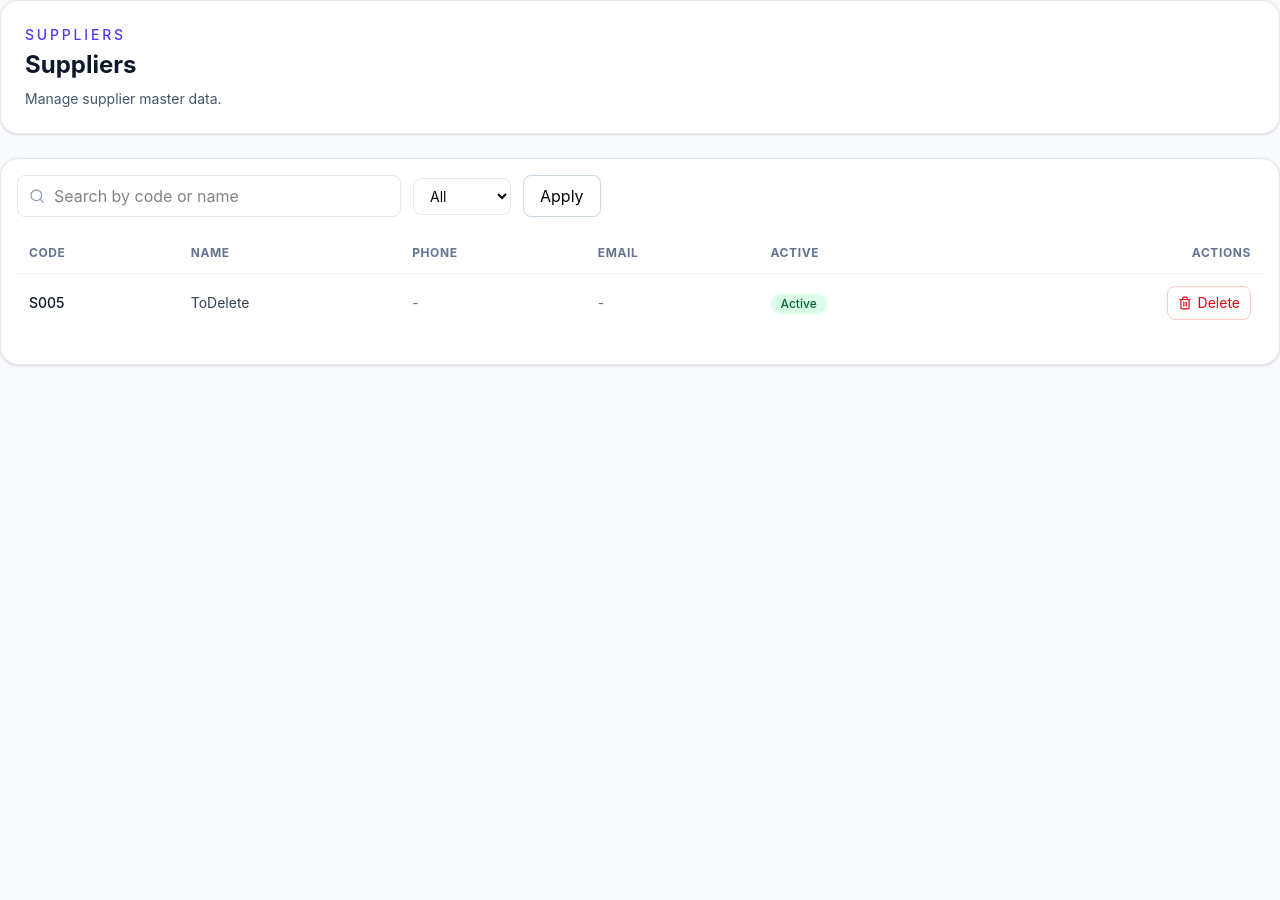
Scenario: SuppliersPage › allows deleting (soft-delete) a supplier
Expected: the text "ToDelete" is shown, [179,274,400,332]
Click the button "Delete".
click(1209, 303)  # box [1167,286,1251,320]
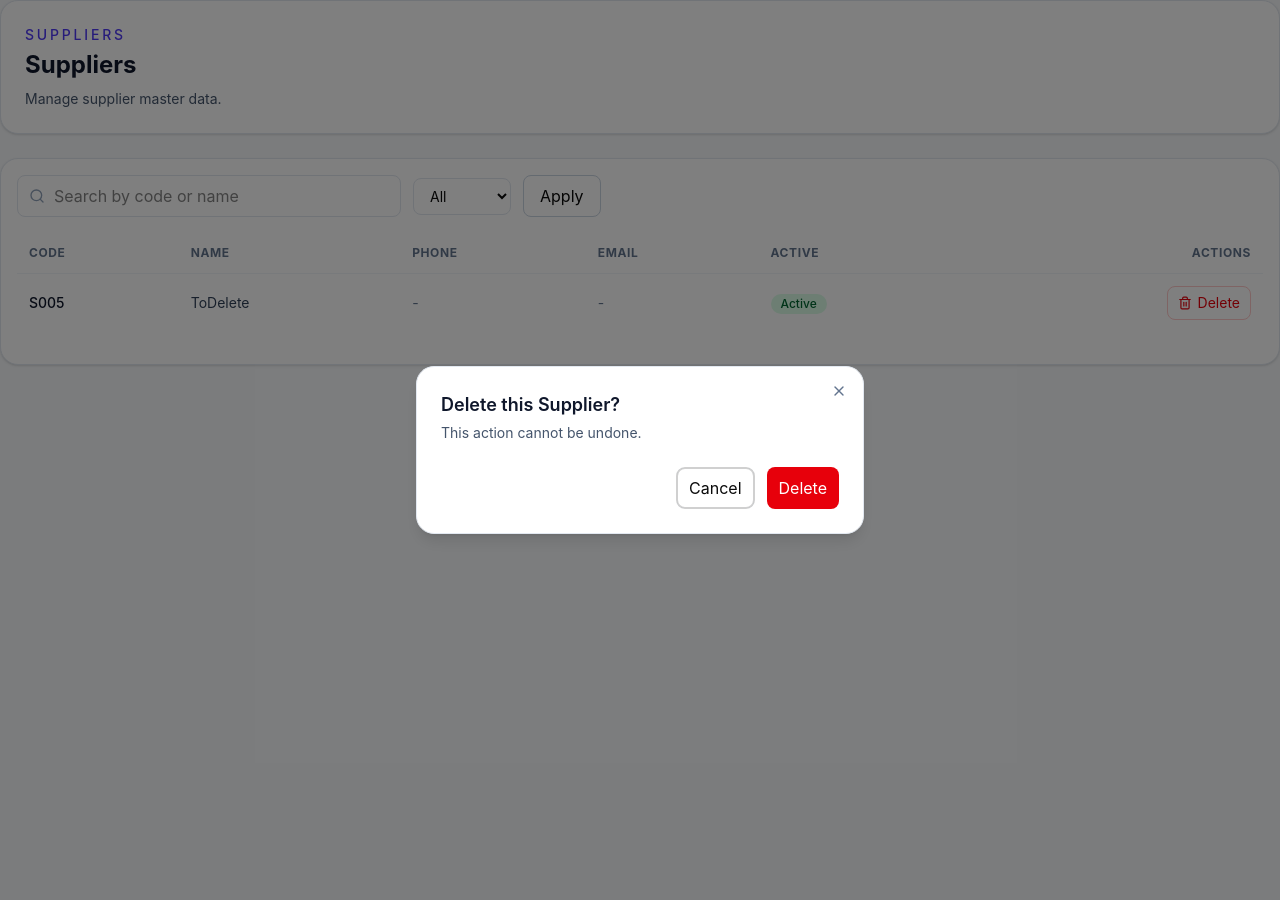
Expected: the dialog is shown, [416,366,864,534]
# confirm dialog appears, click Delete button inside it
Click the button "Delete".
click(803, 488)  # box [766,467,839,509]
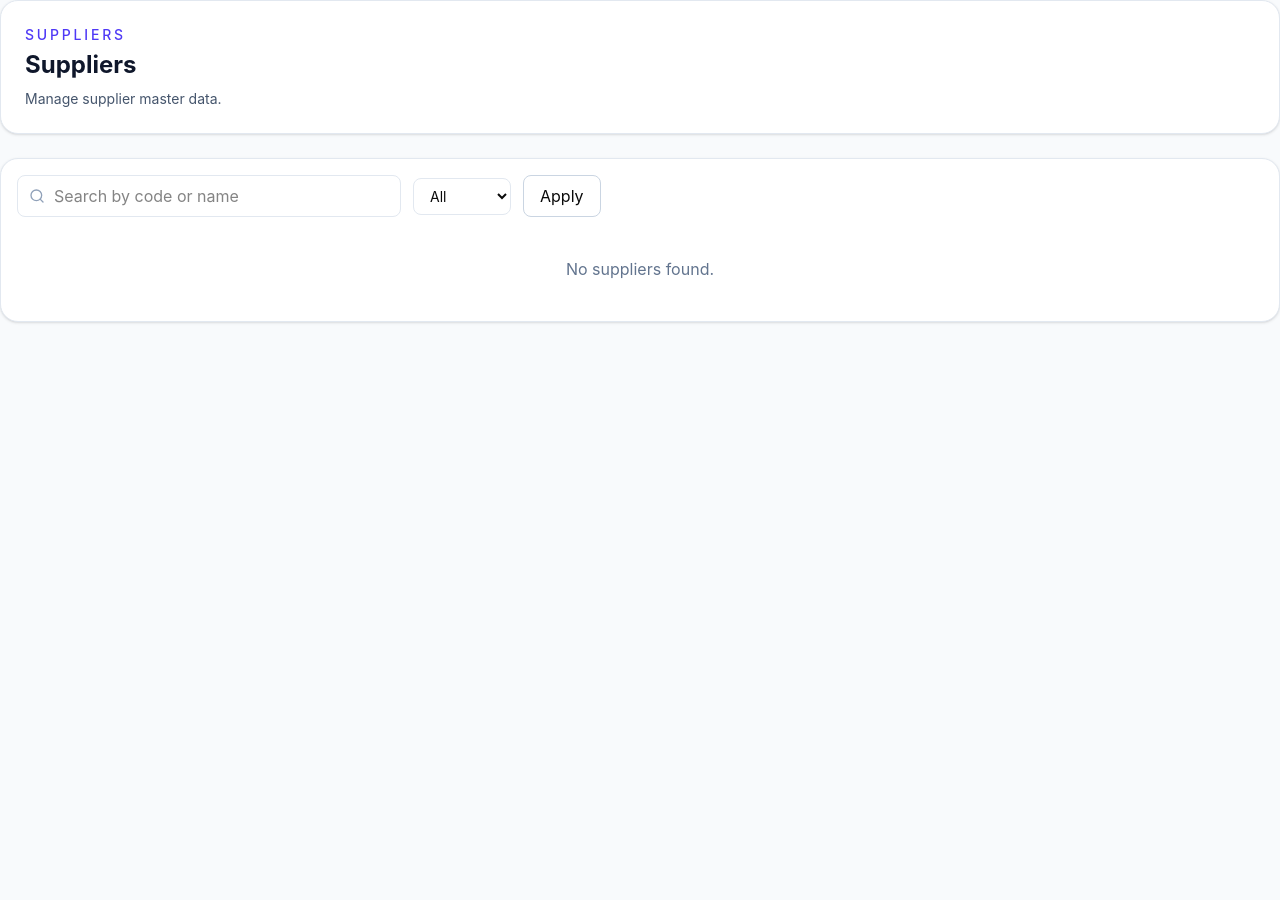
Expected: the text "No suppliers found." is shown, [566,259,714,279]
